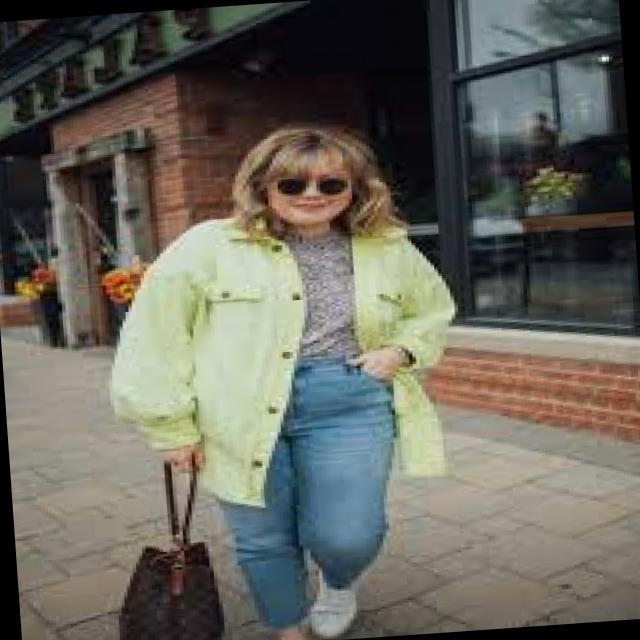Jacket: (94, 215, 482, 514)
